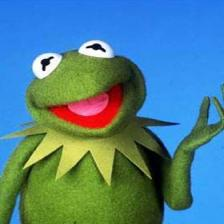green: (1, 40, 224, 224)
